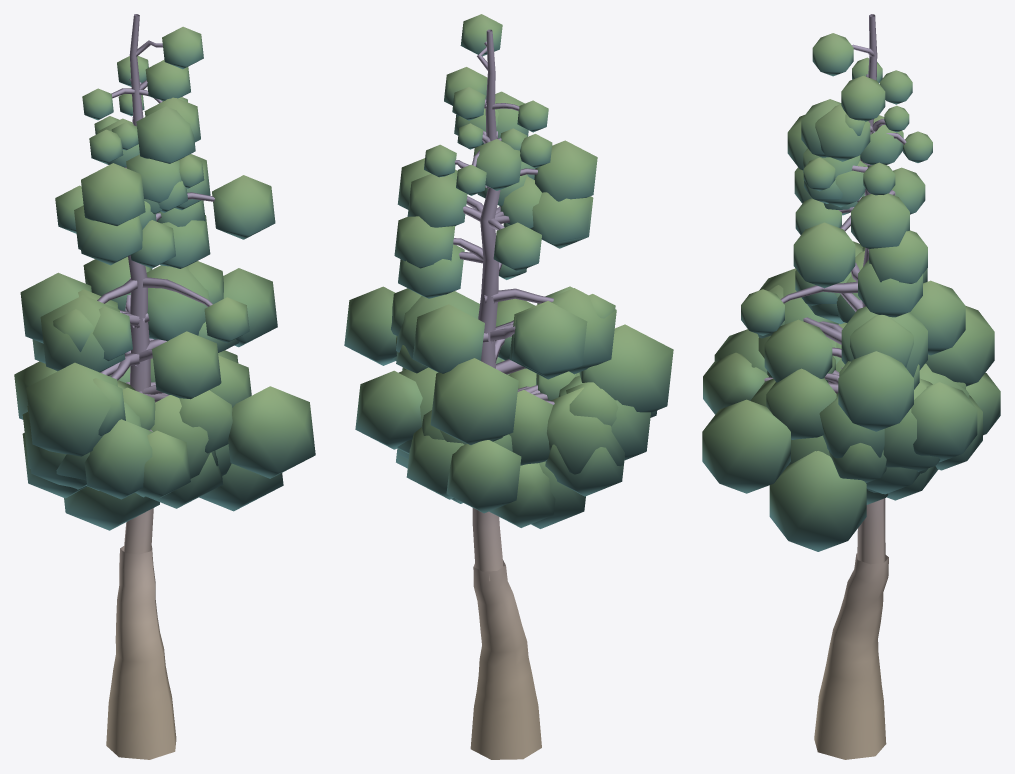
The model's file is seed_conifer_b.glb.
The picture shows the model from 3 angles, left to right: view 1: azimuth 30°, elevation 25°; view 2: azimuth 150°, elevation 25°; view 3: azimuth 270°, elevation 25°; orthographic projection.
Visible parts, largest first — view 1: seed_conifer_b_LOD0; view 2: seed_conifer_b_LOD0; view 3: seed_conifer_b_LOD0.
Part boxes in pixels (bbox=[...]): seed_conifer_b_LOD0: bbox=[14, 14, 315, 759]; seed_conifer_b_LOD0: bbox=[344, 14, 673, 759]; seed_conifer_b_LOD0: bbox=[702, 14, 1000, 759].
Size of what is drawn, in the model's own units: 3.99 by 9.87 by 3.64.
